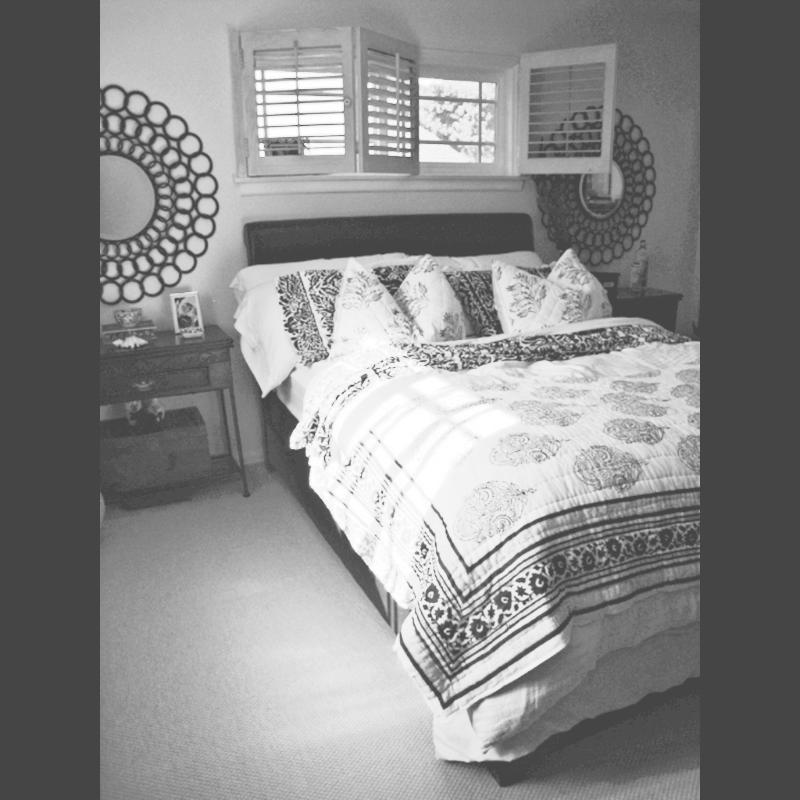pillow: (323, 254, 491, 374), (496, 246, 612, 332)
